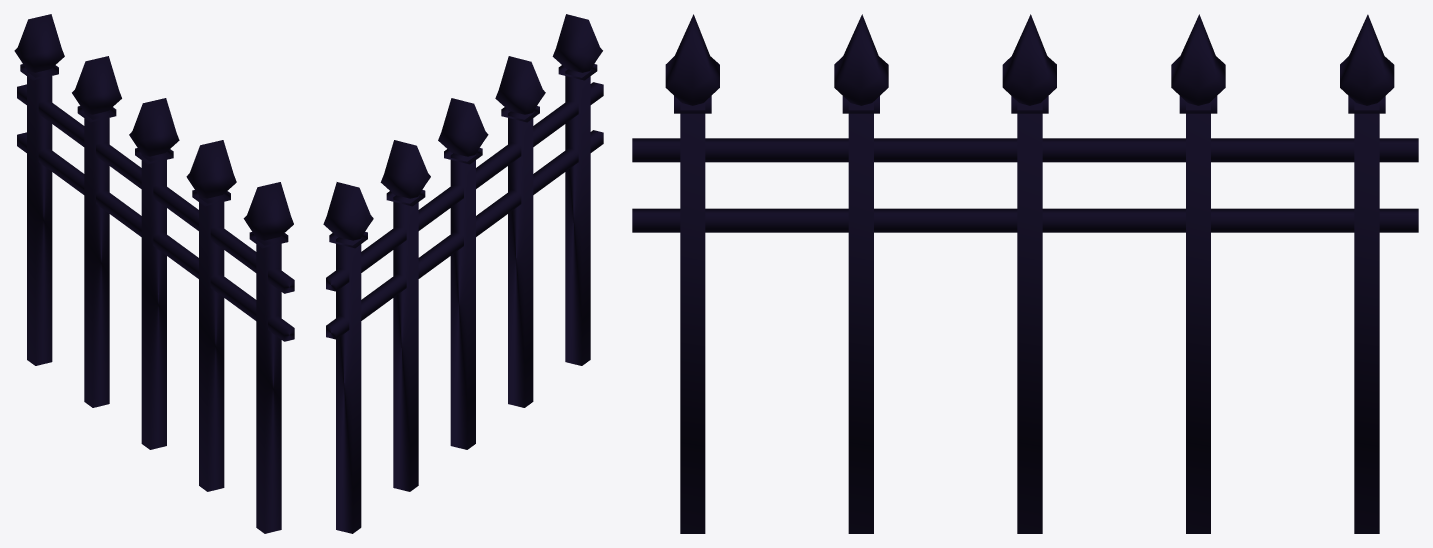
File: Fence.fbx
The picture shows the model from 3 angles, left to right: view 1: azimuth 30°, elevation 25°; view 2: azimuth 150°, elevation 25°; view 3: azimuth 270°, elevation 25°; orthographic projection. The views are drawn at different scales.
Parts seen in each view (by area): view 1: Cube.006; view 2: Cube.006; view 3: Cube.006.
Boxes of the visible parts, box(x1,y1,x2,y2) form: Cube.006: box(14, 14, 294, 533); Cube.006: box(323, 14, 603, 533); Cube.006: box(632, 14, 1418, 533).
Bounding box in the file's own units: 126 × 1041 × 1466.
